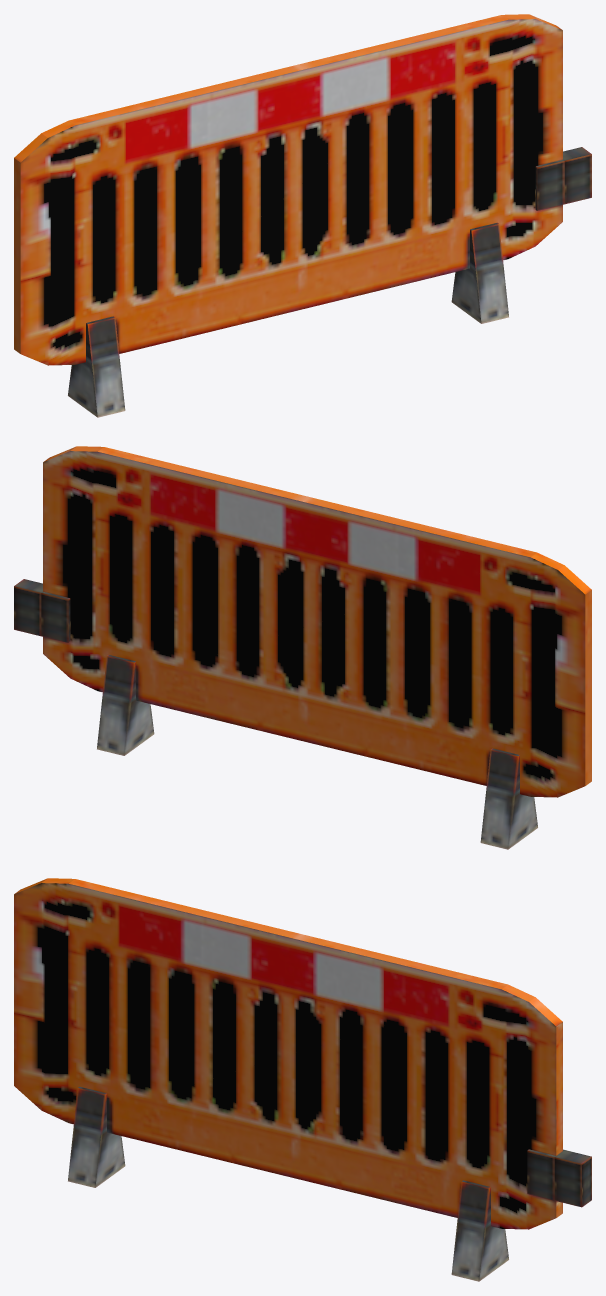
Rendered from Barricade01.obj.
3 views of the same model, one above another, from view 1: azimuth 30°, elevation 25°; view 2: azimuth 150°, elevation 25°; view 3: azimuth 330°, elevation 25° (orthographic).
Visible parts, largest first — view 1: Barricade01; view 2: Barricade01; view 3: Barricade01.
Boxes of the visible parts, x1,y1,x2,y2 form: Barricade01: [14, 14, 591, 417]; Barricade01: [14, 446, 591, 849]; Barricade01: [14, 878, 591, 1281].
Bounding box in the file's own units: 5.21 × 2.5 × 0.4744.
